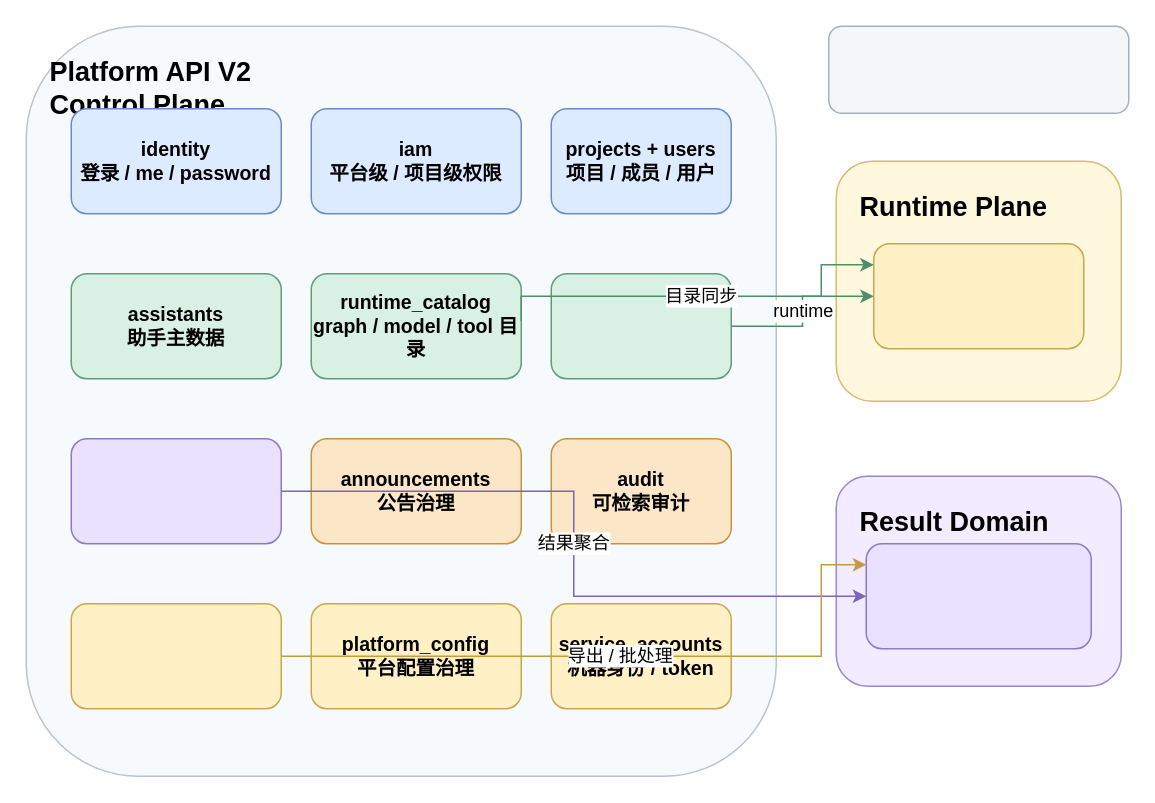
The diagram is 1155 pixels wide and 803 high, and some of its shapes have lost their labels. The shapes that lost their labels are listed below. From the top down, each one's centre as x and y in pixels, then its label:
At point 978,69: "只允许通过 gateway / adapter 跨边界访问".
At point 978,295: "runtime-service graph / thread / run / stream".
At point 640,325: "runtime_gateway 受控访问 runtime".
At point 175,490: "testcase 测试用例控制面 / 导出".
At point 978,595: "interaction-data-service case / batch / document 结果域".
At point 175,655: "operations 长任务 / worker / artifact".
